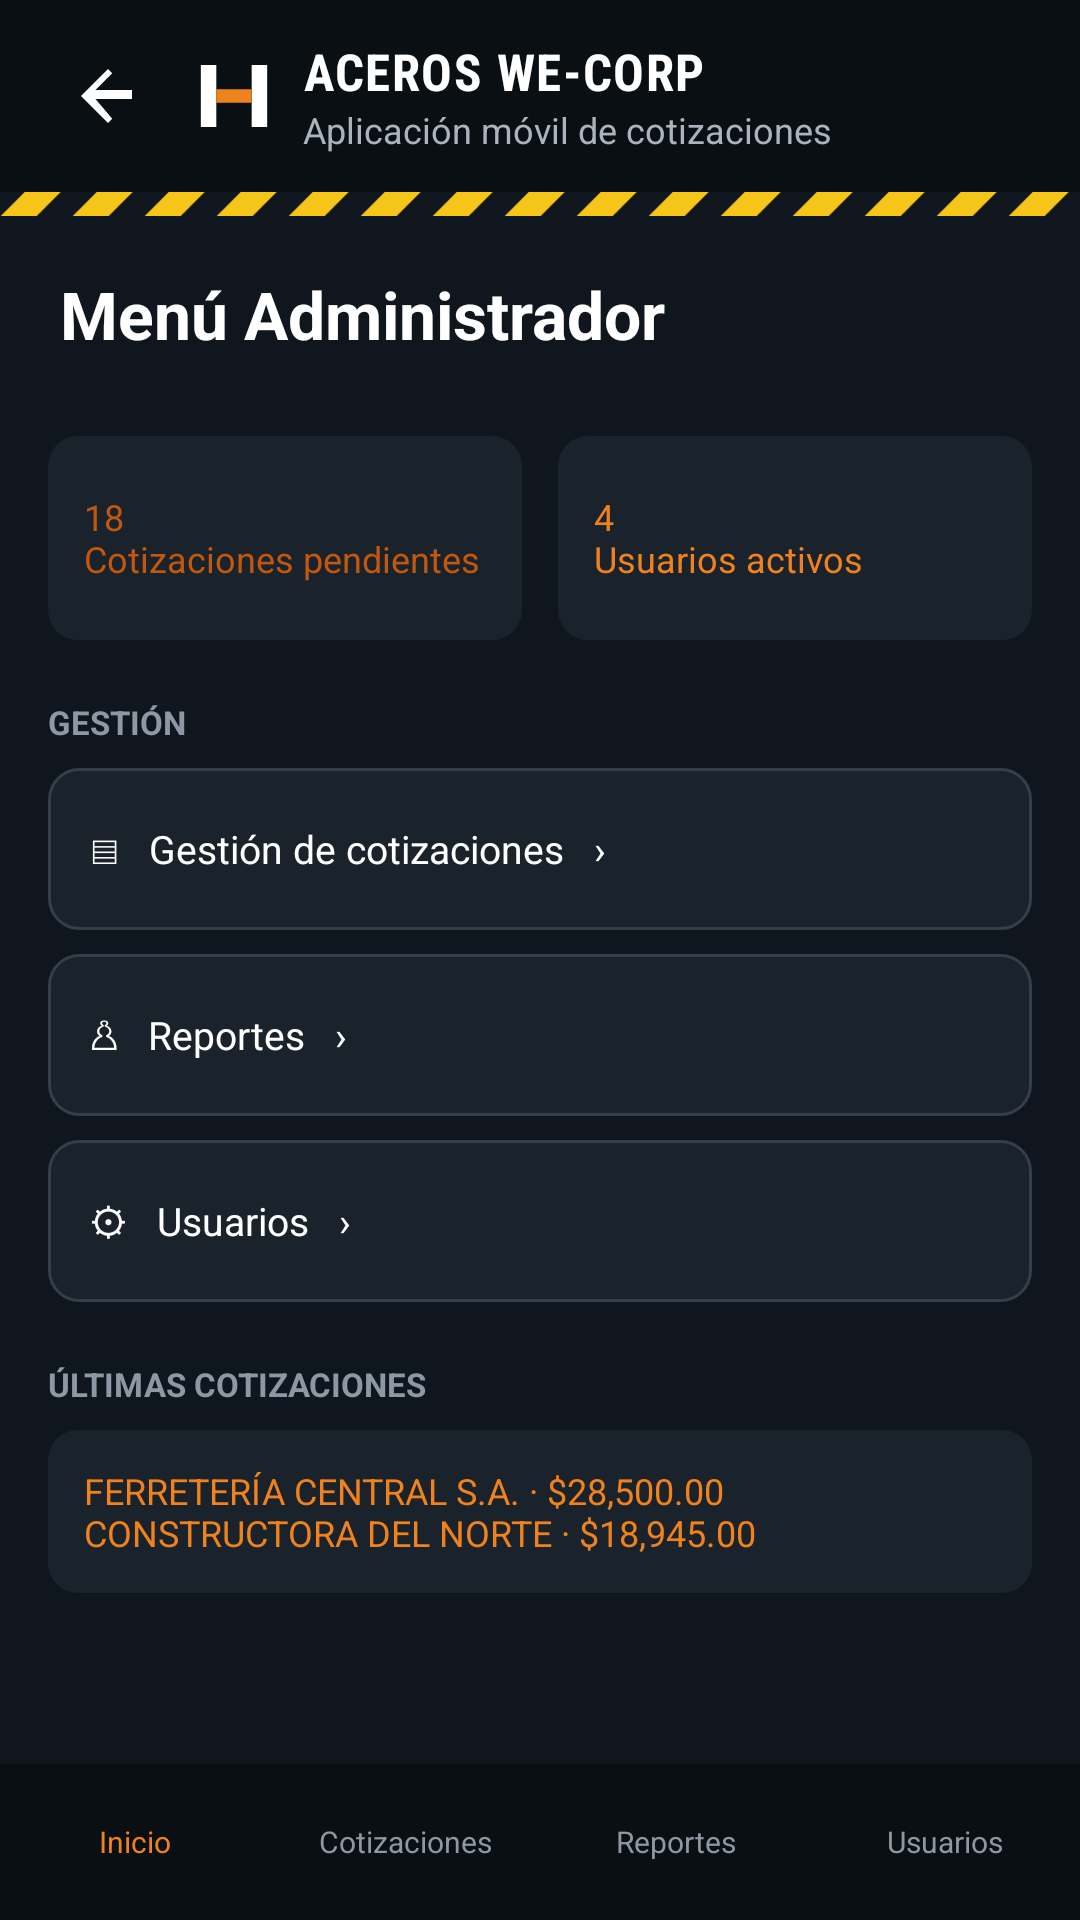

Point at icon controls on the screen. Image size 1080 x 1920, points as (x,y).
Volver: (106,96)
